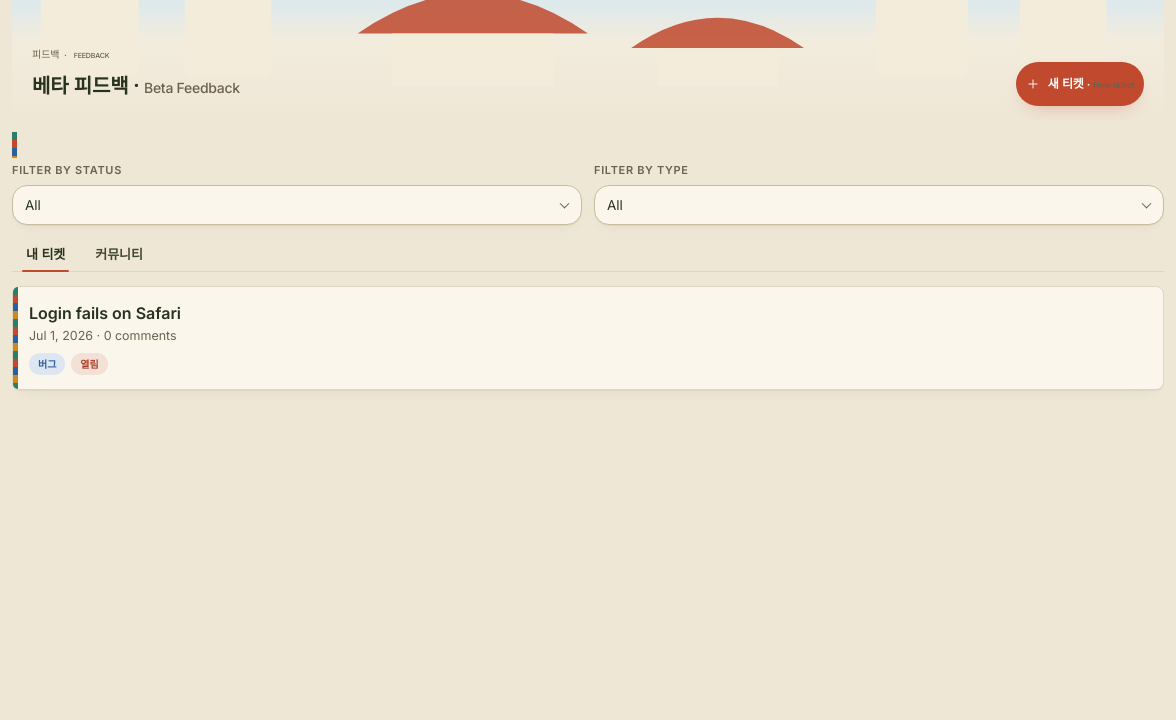
Test: Tickets — ticket detail + editing › opens a ticket into its detail view, and Back returns to the tab it came from
The image size is (1176, 720).
Check: the text "Login fails on Safari" is shown, box left=29, top=303, right=181, bottom=323
Click the button "Login fails on Safari Jul 1, 2026 · 0 comments 버그 열림": (105, 313) left=13, top=287, right=1163, bottom=390
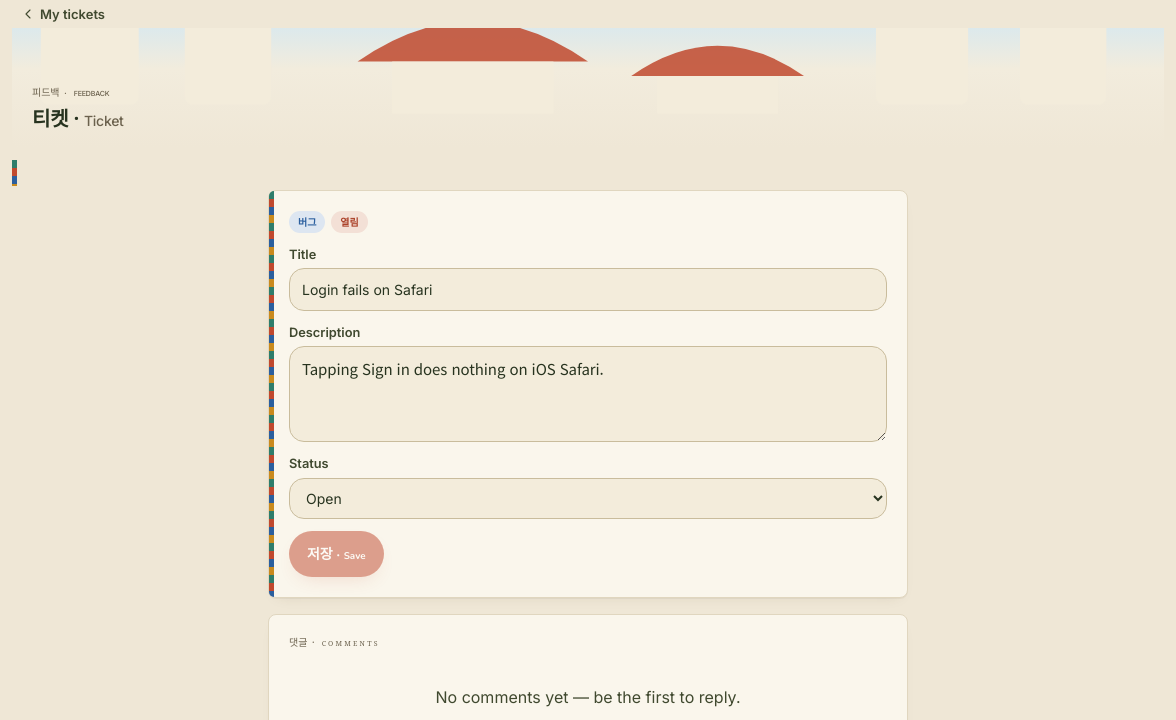
Check: the field labelled "Title" holds "Login fails on Safari", box left=289, top=268, right=887, bottom=311
Click the button with aria-label "Back to My tickets": (64, 14) left=12, top=0, right=117, bottom=28
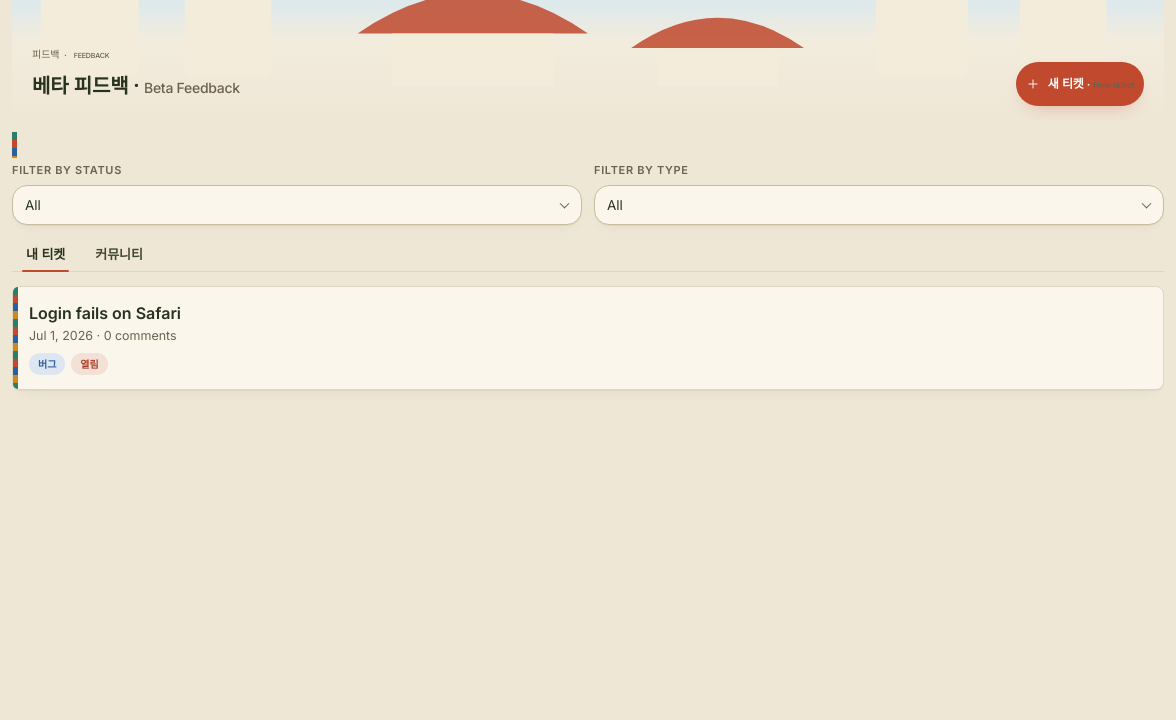
Check: the text "Login fails on Safari" is shown, box left=29, top=303, right=181, bottom=323
Check: the button "새 티켓 · New ticket" is shown, box left=1016, top=62, right=1144, bottom=106
